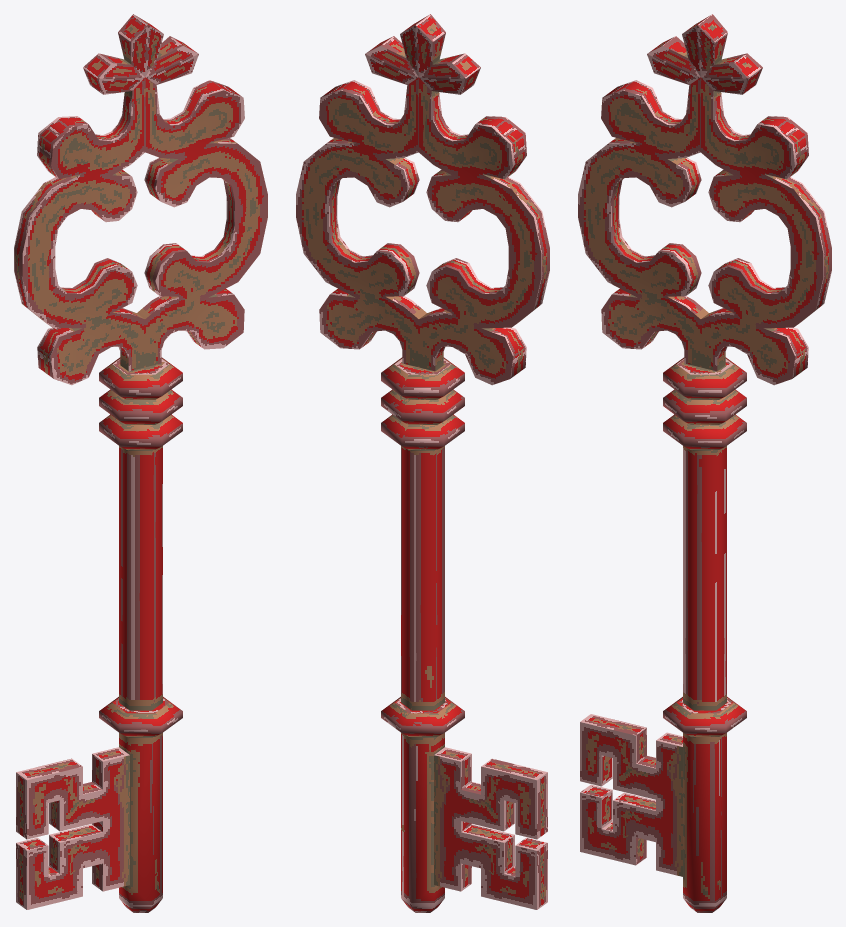
The model's file is red key.glb.
The picture shows the model from 3 angles, left to right: view 1: azimuth 30°, elevation 25°; view 2: azimuth 150°, elevation 25°; view 3: azimuth 330°, elevation 25°; orthographic projection.
Parts seen in each view (by area): view 1: Cylinder; view 2: Cylinder; view 3: Cylinder.
Part boxes in pixels (x1,y1,x2,y2): Cylinder: (14, 14, 267, 912); Cylinder: (296, 14, 549, 912); Cylinder: (578, 14, 831, 912).
Size of the model in its own units: 0.4227 by 1.46 by 0.1249.
1 material, 1 textured.
